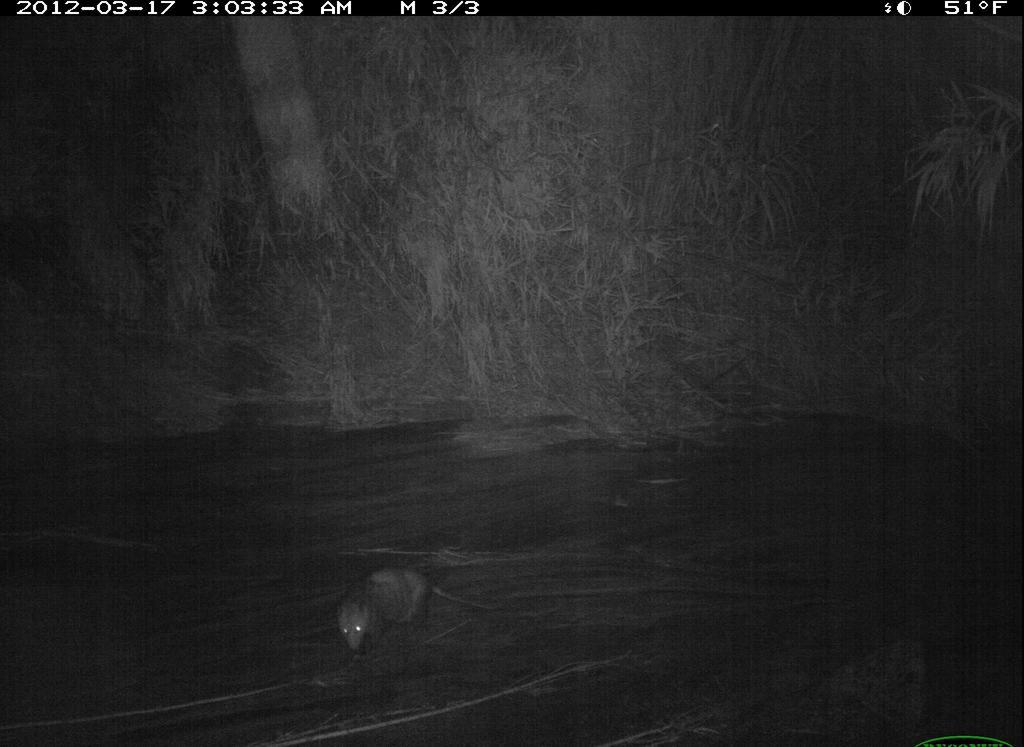opossum: (329, 542, 542, 674)
